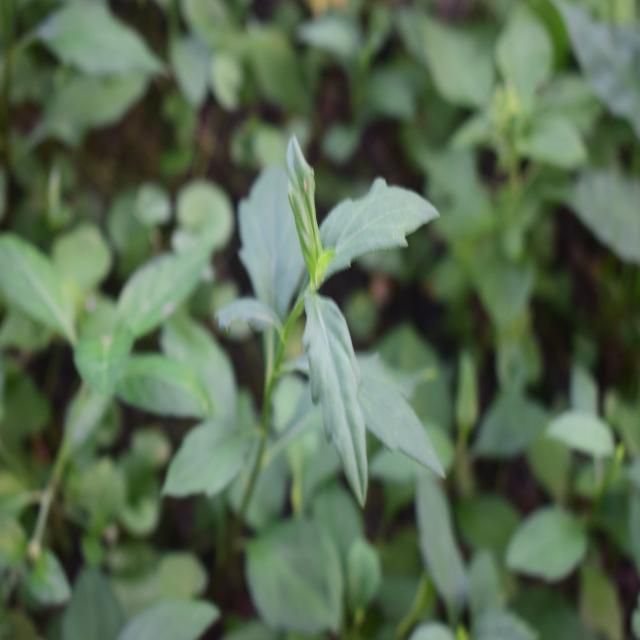Indian aster: (202, 133, 442, 513)
